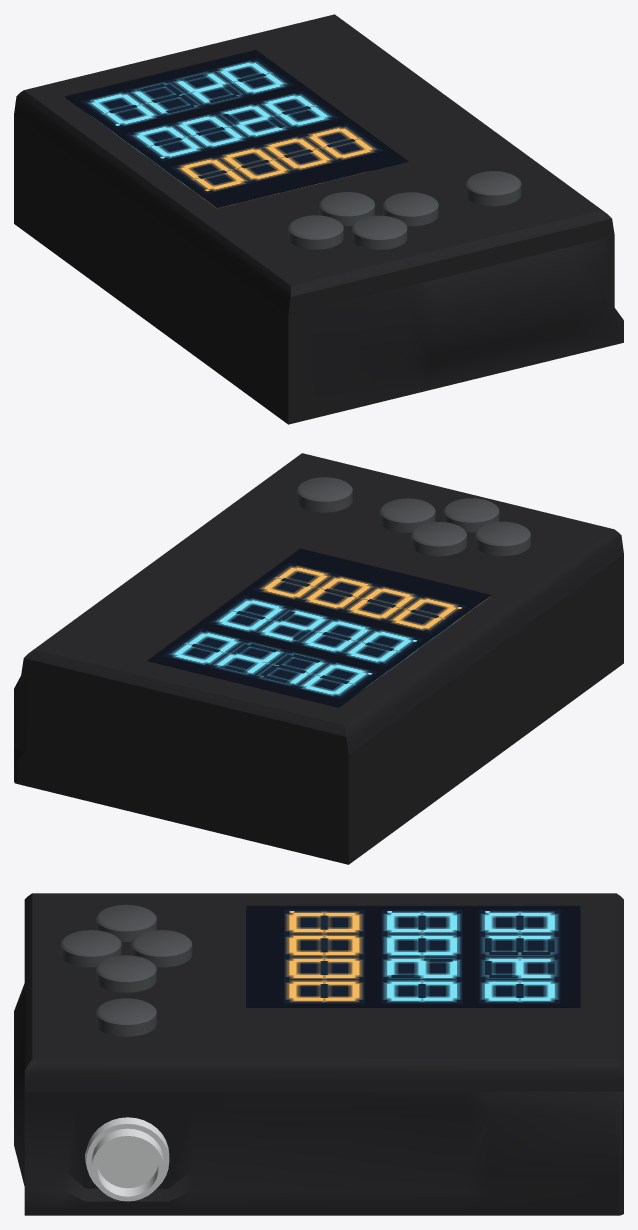
The model's file is cronos-controller-v1.glb.
3 views of the same model, one above another, from view 1: azimuth 30°, elevation 25°; view 2: azimuth 150°, elevation 25°; view 3: azimuth 270°, elevation 25° (orthographic). The views are drawn at different scales.
Parts seen in each view (by area): view 1: Down, up, Glass, Bool.002; view 2: Down, up, Glass, Bool.002; view 3: up, Down, Glass, Bool.002, Connector.
Boxes of the visible parts, x1,y1,x2,y2 form: Down: (14,115,623,424); up: (14,14,614,315); Glass: (65,50,406,208); Bool.002: (288,171,521,249); Down: (14,554,623,864); up: (21,453,623,755); Glass: (148,549,490,707); Bool.002: (296,477,530,556); up: (24,893,623,1091); Down: (14,983,623,1215); Glass: (247,906,579,1007); Bool.002: (60,904,192,1036); Connector: (85,1117,169,1201).
Size of the model in its own units: 0.0957 by 0.0383 by 0.1315.
5 materials, 1 textured.
